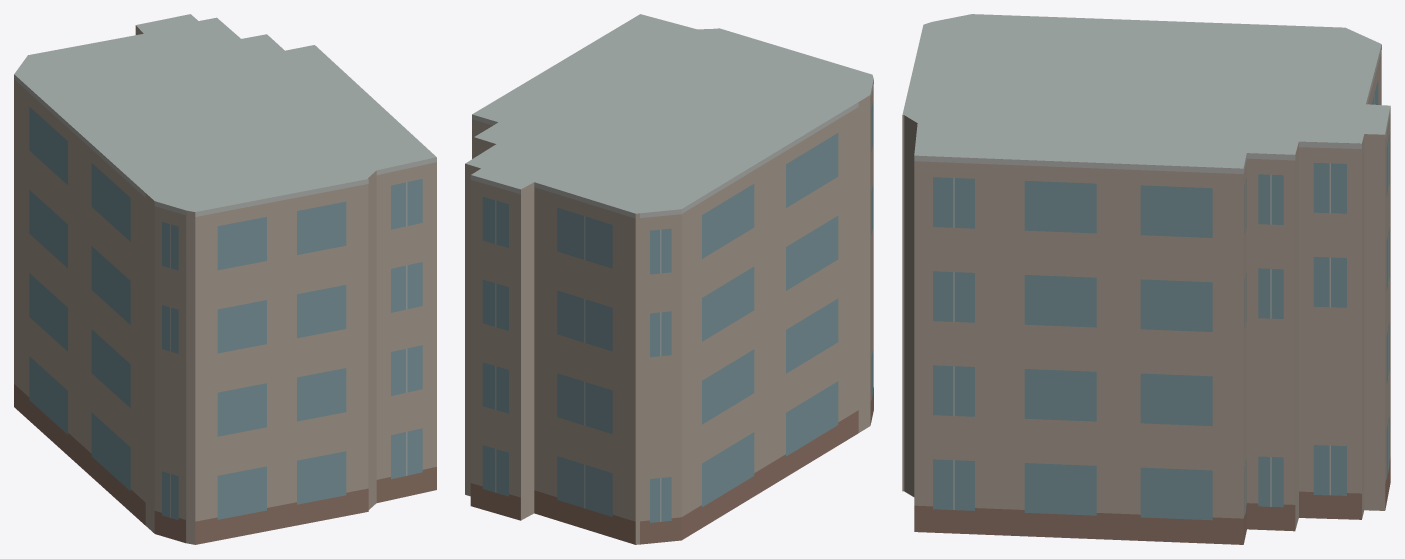
File: survey-upis-32497917.glb
3 renders of one model, left to right at view 1: azimuth 30°, elevation 25°; view 2: azimuth 150°, elevation 25°; view 3: azimuth 270°, elevation 25°, orthographic. The views are drawn at different scales.
Parts seen in each view (by area): view 1: survey-upis-32497917.tmp; view 2: survey-upis-32497917.tmp; view 3: survey-upis-32497917.tmp.
Boxes of the visible parts, left/top/right/bottom form: survey-upis-32497917.tmp: left=14, top=14, right=436, bottom=544; survey-upis-32497917.tmp: left=465, top=14, right=873, bottom=544; survey-upis-32497917.tmp: left=902, top=14, right=1390, bottom=544.
Size of the model in its own units: 14.51 by 16.46 by 19.37.
